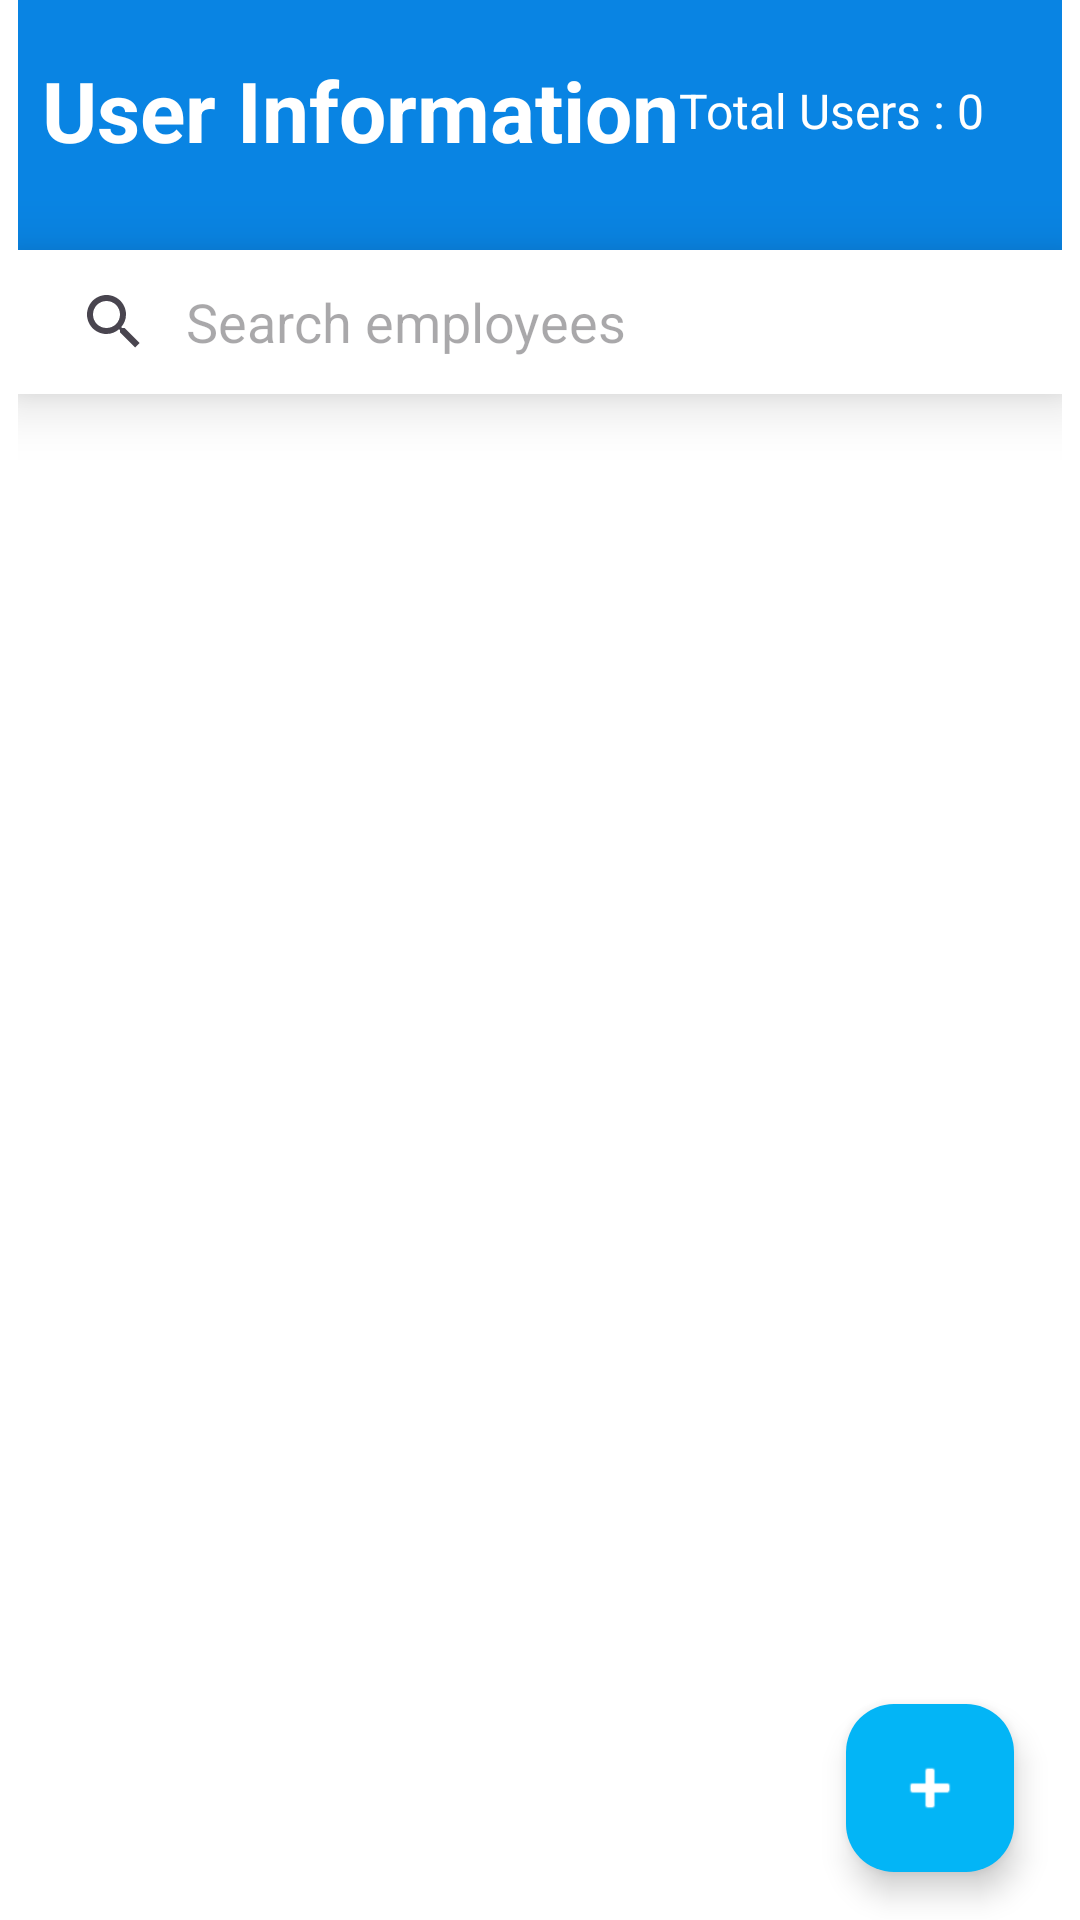

Icons on this 1080w x 1920h Android screen, each with the point to tap as (x,y):
Add: (930,1788)
